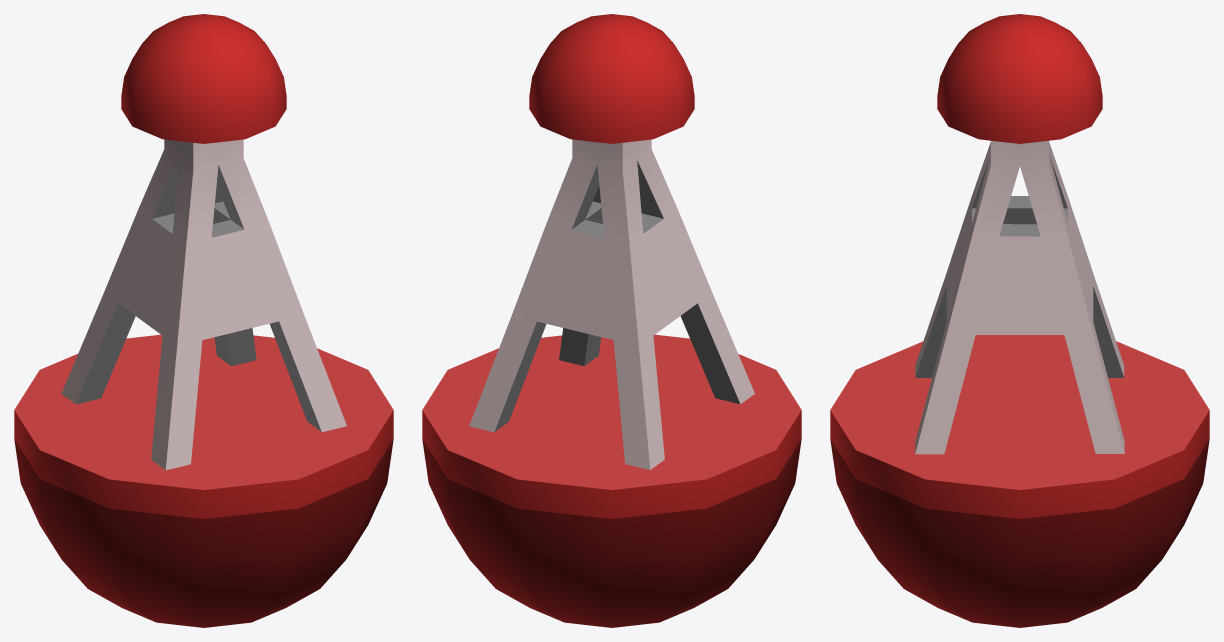
The model's file is MapScenery (148b) (1).fbx.
3 views of the same model, side by side, from view 1: azimuth 30°, elevation 25°; view 2: azimuth 150°, elevation 25°; view 3: azimuth 270°, elevation 25° (orthographic).
Visible parts, largest first — view 1: Skyscraper_A; view 2: Skyscraper_A; view 3: Skyscraper_A.
Part boxes in pixels (x1,y1,x2,y2): Skyscraper_A: [14, 14, 393, 627]; Skyscraper_A: [422, 14, 801, 627]; Skyscraper_A: [830, 14, 1209, 627].
Size of the model in its own units: 0.8643 by 1.48 by 0.8643.
Materials: 1 (1 with a texture image).
